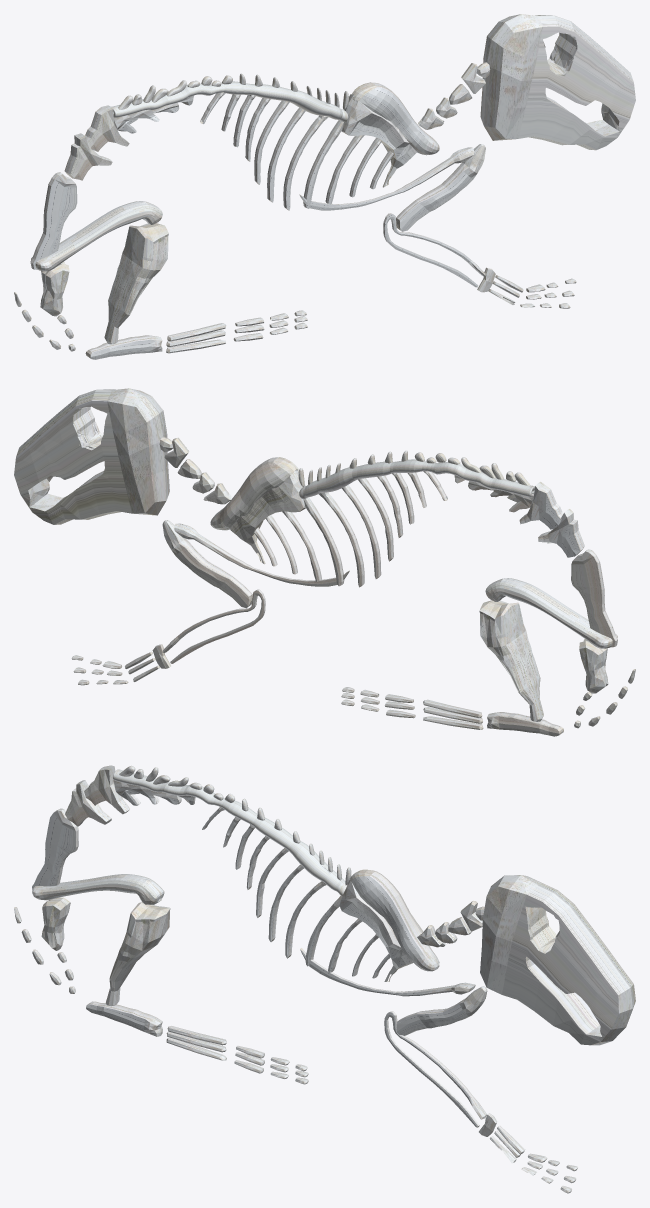
Rendered from ESQUELETOC.fbx.
3 renders of one model, top to bottom at view 1: azimuth 30°, elevation 25°; view 2: azimuth 150°, elevation 25°; view 3: azimuth 330°, elevation 25°, orthographic.
Parts seen in each view (by area): view 1: 0CONEJO; view 2: 0CONEJO; view 3: 0CONEJO.
Boxes of the visible parts, x1=… form: 0CONEJO: x1=14, y1=14, x2=635, y2=359; 0CONEJO: x1=14, y1=388, x2=635, y2=736; 0CONEJO: x1=14, y1=765, x2=635, y2=1193.
Bounding box in the file's own units: 853 × 425 × 61.98.
1 material, 1 textured.
